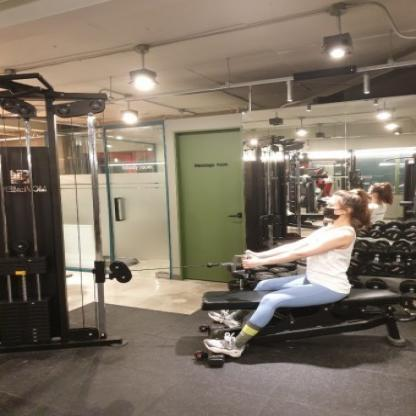Seated Cable Rows: (0, 63, 396, 380)
